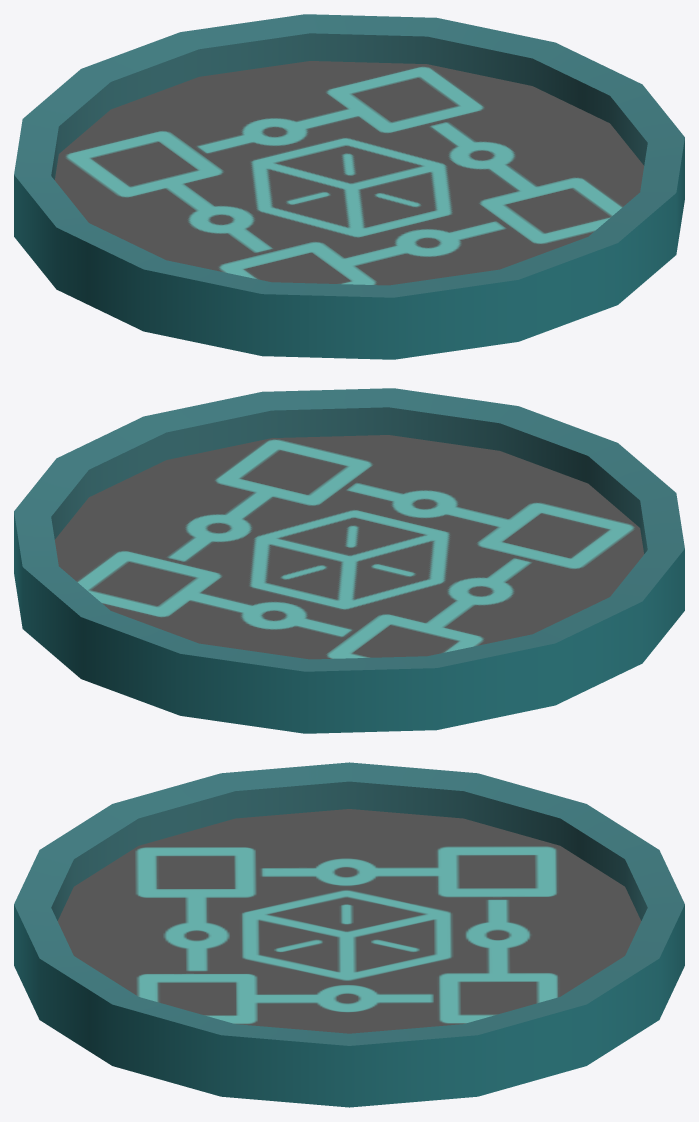
Rendered from Dexi.fbx.
The picture shows the model from 3 angles, top to bottom: view 1: azimuth 30°, elevation 25°; view 2: azimuth 150°, elevation 25°; view 3: azimuth 270°, elevation 25°; orthographic projection.
Visible parts, largest first — view 1: Circle.001; view 2: Circle.001; view 3: Circle.001.
Part boxes in pixels (bbox=[...]): Circle.001: bbox=[14, 14, 684, 359]; Circle.001: bbox=[14, 388, 684, 733]; Circle.001: bbox=[14, 762, 684, 1107].
Bounding box in the file's own units: 225 × 22.76 × 225.
